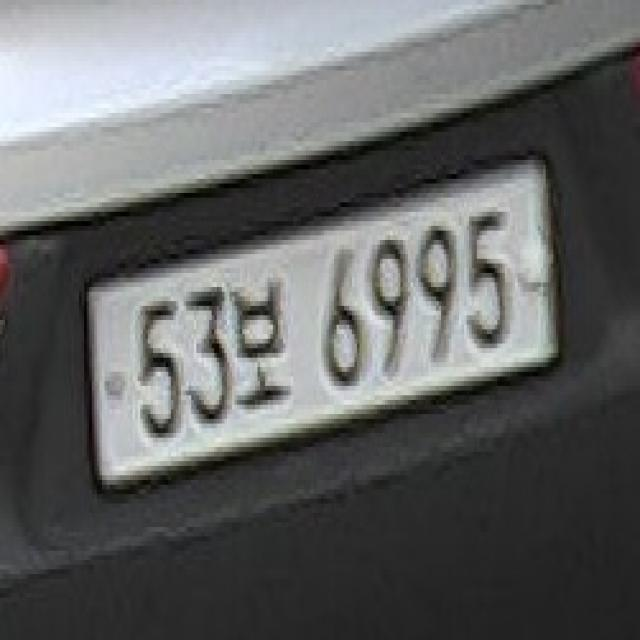3: (186, 286, 228, 443)
5: (464, 203, 511, 366), (136, 294, 182, 450)
6: (319, 240, 365, 406)
9: (414, 215, 460, 372), (368, 228, 408, 390)
bo: (231, 272, 289, 422)
license_plate: (75, 123, 580, 538)
